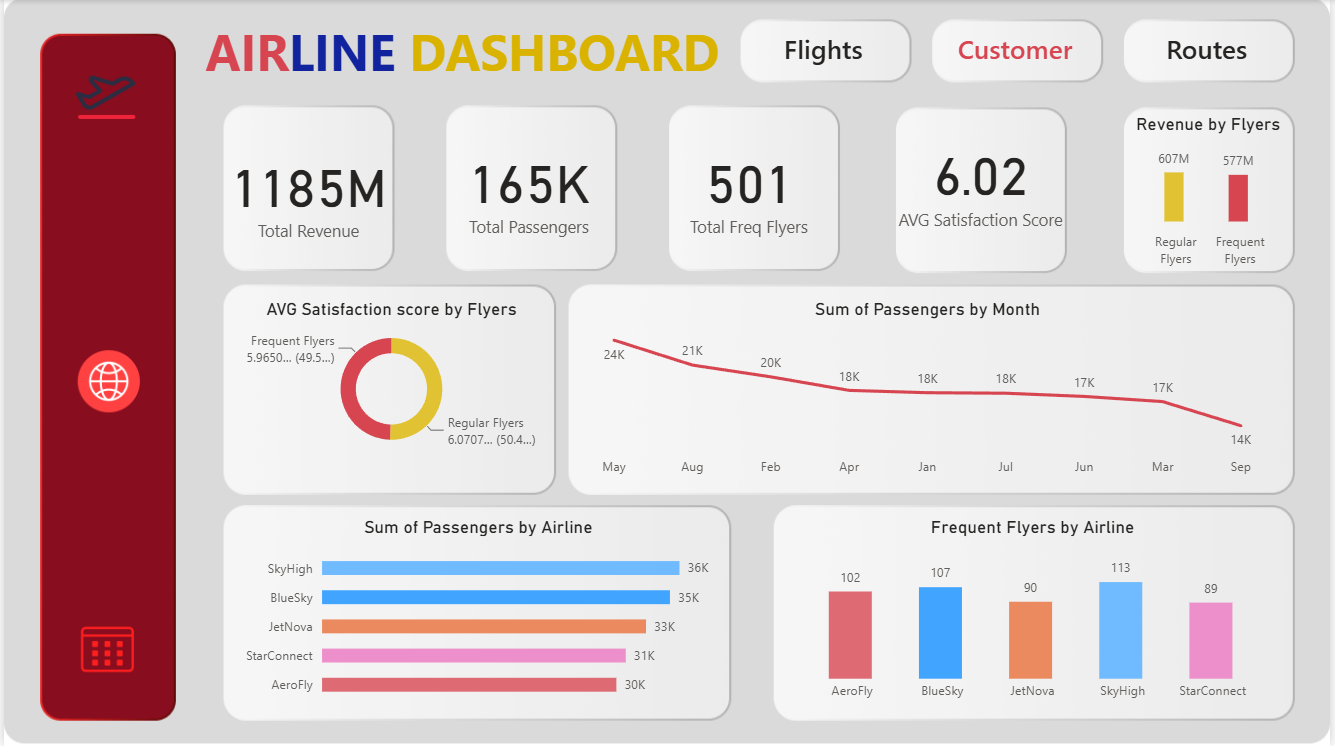

This screenshot's page, from the dashboard's own definition file:
{"tool":"powerbi","page":{"name":"Customer","canvas":[1280,720],"ordinal":1},"visuals":[{"type":"card","fields":{"Values":["Avg(Airline.Satisfaction_Score)"]},"box":[861.2,95.4,166.6,160.3],"z":0},{"type":"clusteredBarChart","fields":{"Category":["Distinct Flights.Airline"],"Y":["Sum(Airline.Passengers)"]},"box":[222.6,498.7,469.4,187],"z":1000},{"type":"clusteredColumnChart","fields":{"Category":["Airline.udt freq flyer"],"Y":["Sum(Airline.Revenue)"]},"box":[1059.7,109.4,206.1,155.2],"z":2000},{"type":"card","fields":{"Values":["Sum(Airline.Revenue)"]},"box":[217.5,137.4,157.7,98],"z":3000},{"type":"card","fields":{"Values":["Sum(Airline.Toatal frequent Flyers)"]},"box":[611.9,103,218.8,160.3],"z":4000},{"type":"lineChart","fields":{"Category":["Airline.Month"],"Y":["Sum(Airline.Passengers)"]},"box":[553.4,288.8,675.5,180.6],"z":5000},{"type":"clusteredColumnChart","title":"Frequent Flyers by Airline","fields":{"Category":["Distinct Flights.Airline"],"Y":["Sum(Airline.Toatal frequent Flyers)"]},"box":[756.4,498.3,472.9,187],"z":6000},{"type":"donutChart","title":"AVG Satisfaction score by Flyers","fields":{"Category":["Airline.udt freq flyer"],"Y":["Avg(Airline.Satisfaction_Score)"]},"box":[220.1,288.8,309.1,155.2],"z":7000},{"type":"card","fields":{"Values":["Sum(Airline.Passengers)"]},"box":[419.8,125.9,178.1,114.5],"z":8000},{"type":"image","box":[62.5,38.7,72.9,105.7],"z":9000},{"type":"image","box":[66.3,302.9,69.9,130.8],"z":10000},{"type":"image","box":[43,593.2,112.9,66.3],"z":11000},{"type":"pageNavigator","box":[703.4,15.7,546.5,61.5],"z":15000},{"type":"textbox","box":[189.4,12.1,513.9,76],"z":16000}]}

Visuals, with their boxes in screenshot pixels (x1, y1, x2, y2), scaled from the page's 1280x720 canvas onto the 1335x746 screenshot:
card - Avg(Airline.Satisfaction_Score): [898,99,1072,265]
clusteredBarChart - Distinct Flights.Airline x Sum(Airline.Passengers): [232,517,722,710]
clusteredColumnChart - Airline.udt freq flyer x Sum(Airline.Revenue): [1105,113,1320,274]
card - Sum(Airline.Revenue): [227,142,391,244]
card - Sum(Airline.Toatal frequent Flyers): [638,107,866,273]
lineChart - Airline.Month x Sum(Airline.Passengers): [577,299,1282,486]
"Frequent Flyers by Airline" clusteredColumnChart: [789,516,1282,710]
"AVG Satisfaction score by Flyers" donutChart: [230,299,552,460]
card - Sum(Airline.Passengers): [438,130,624,249]
image: [65,40,141,150]
image: [69,314,142,449]
image: [45,615,163,683]
pageNavigator: [734,16,1304,80]
textbox: [198,13,734,91]
